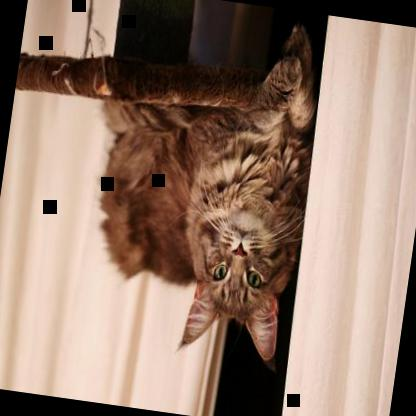cat: (79, 0, 332, 364)
